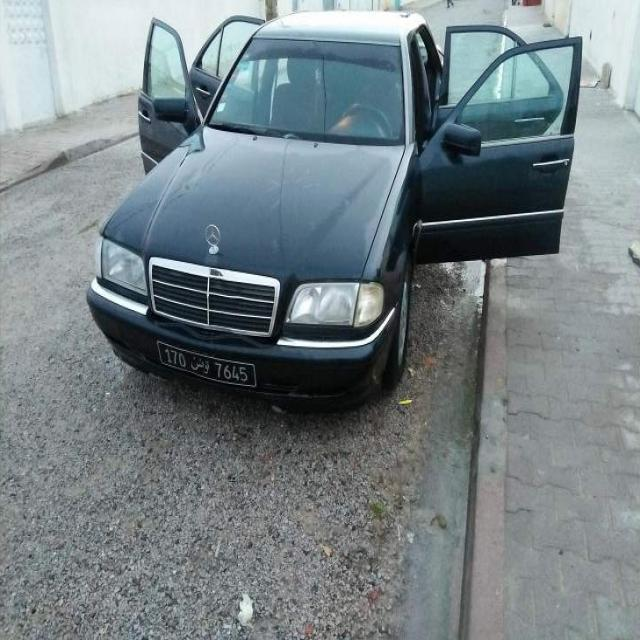licence plate: (159, 344, 253, 385)
